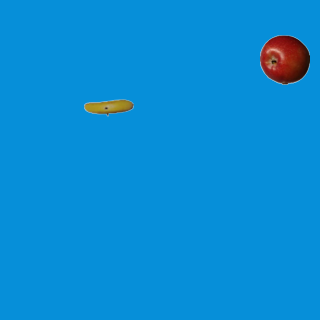Apple Braeburn: (259, 34, 309, 84)
Banana: (83, 82, 133, 132)
